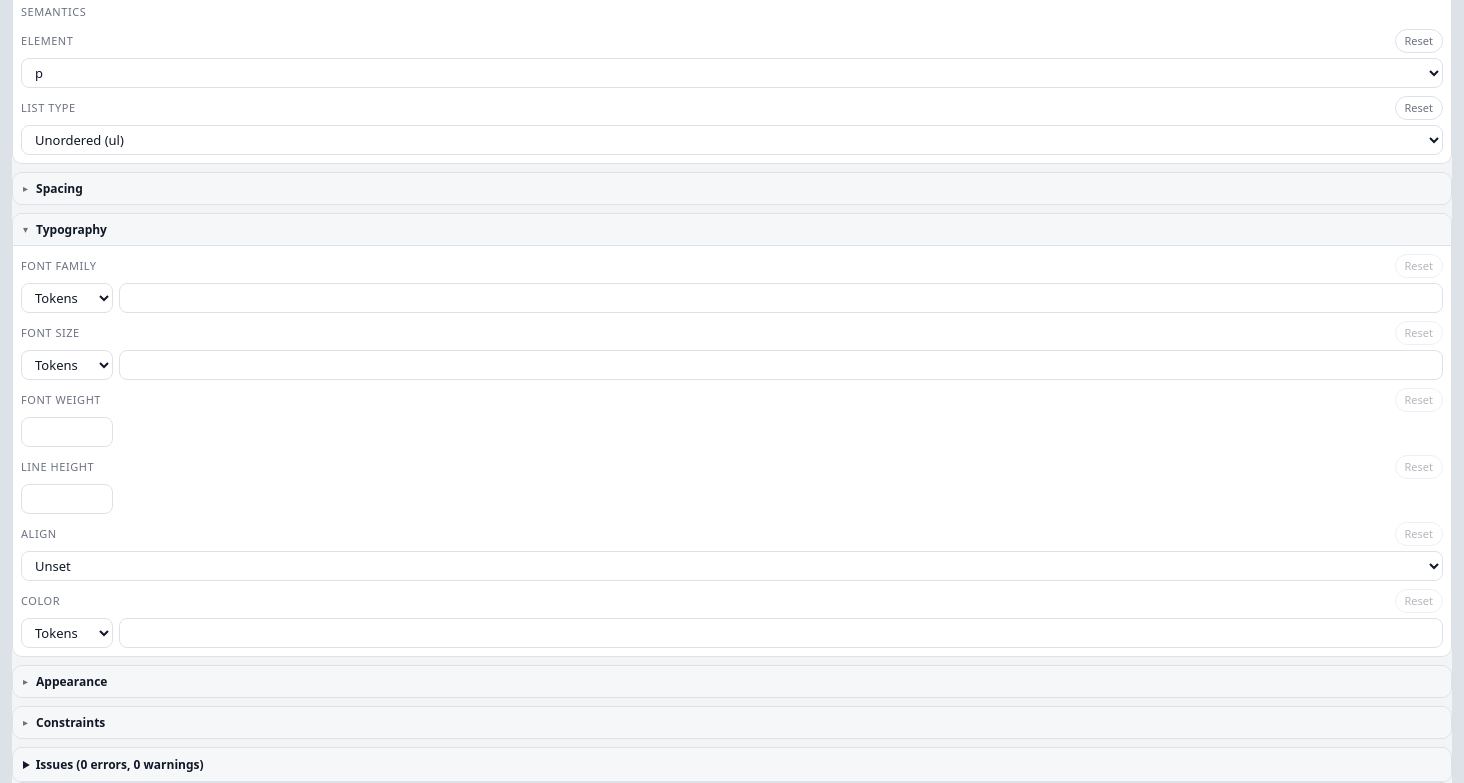
Test case: PageBuilderInspector redesign › clicking a collapsed section header expands it
(page scrolled)
Click the button "▸ Appearance".
click(72, 681)  # box x1=13 y1=666 x2=1451 y2=697
(page scrolled)
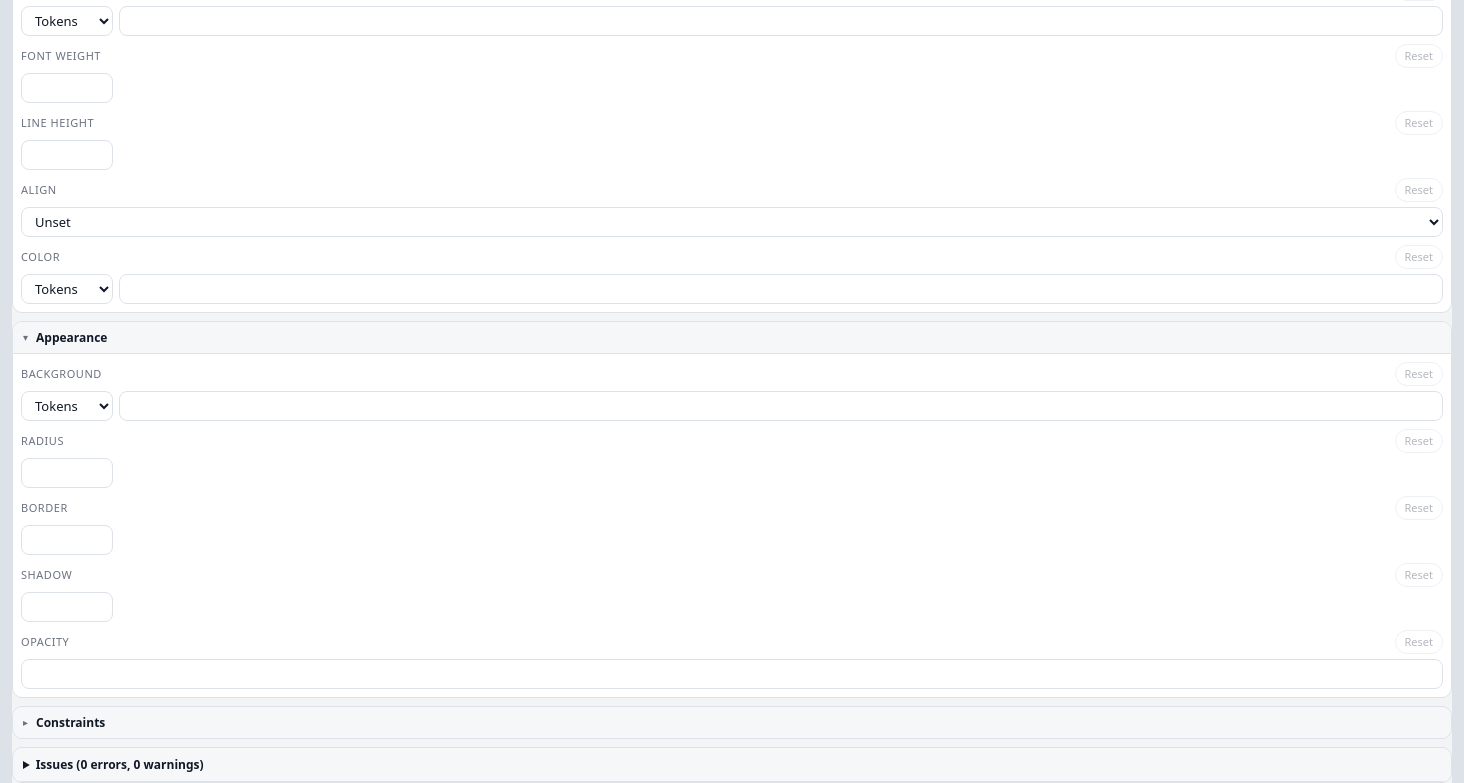
Expected: the button "▾ Appearance" is expanded, x1=13 y1=322 x2=1451 y2=353
Expected: the element named "Appearance" is shown, x1=13 y1=353 x2=1451 y2=697
